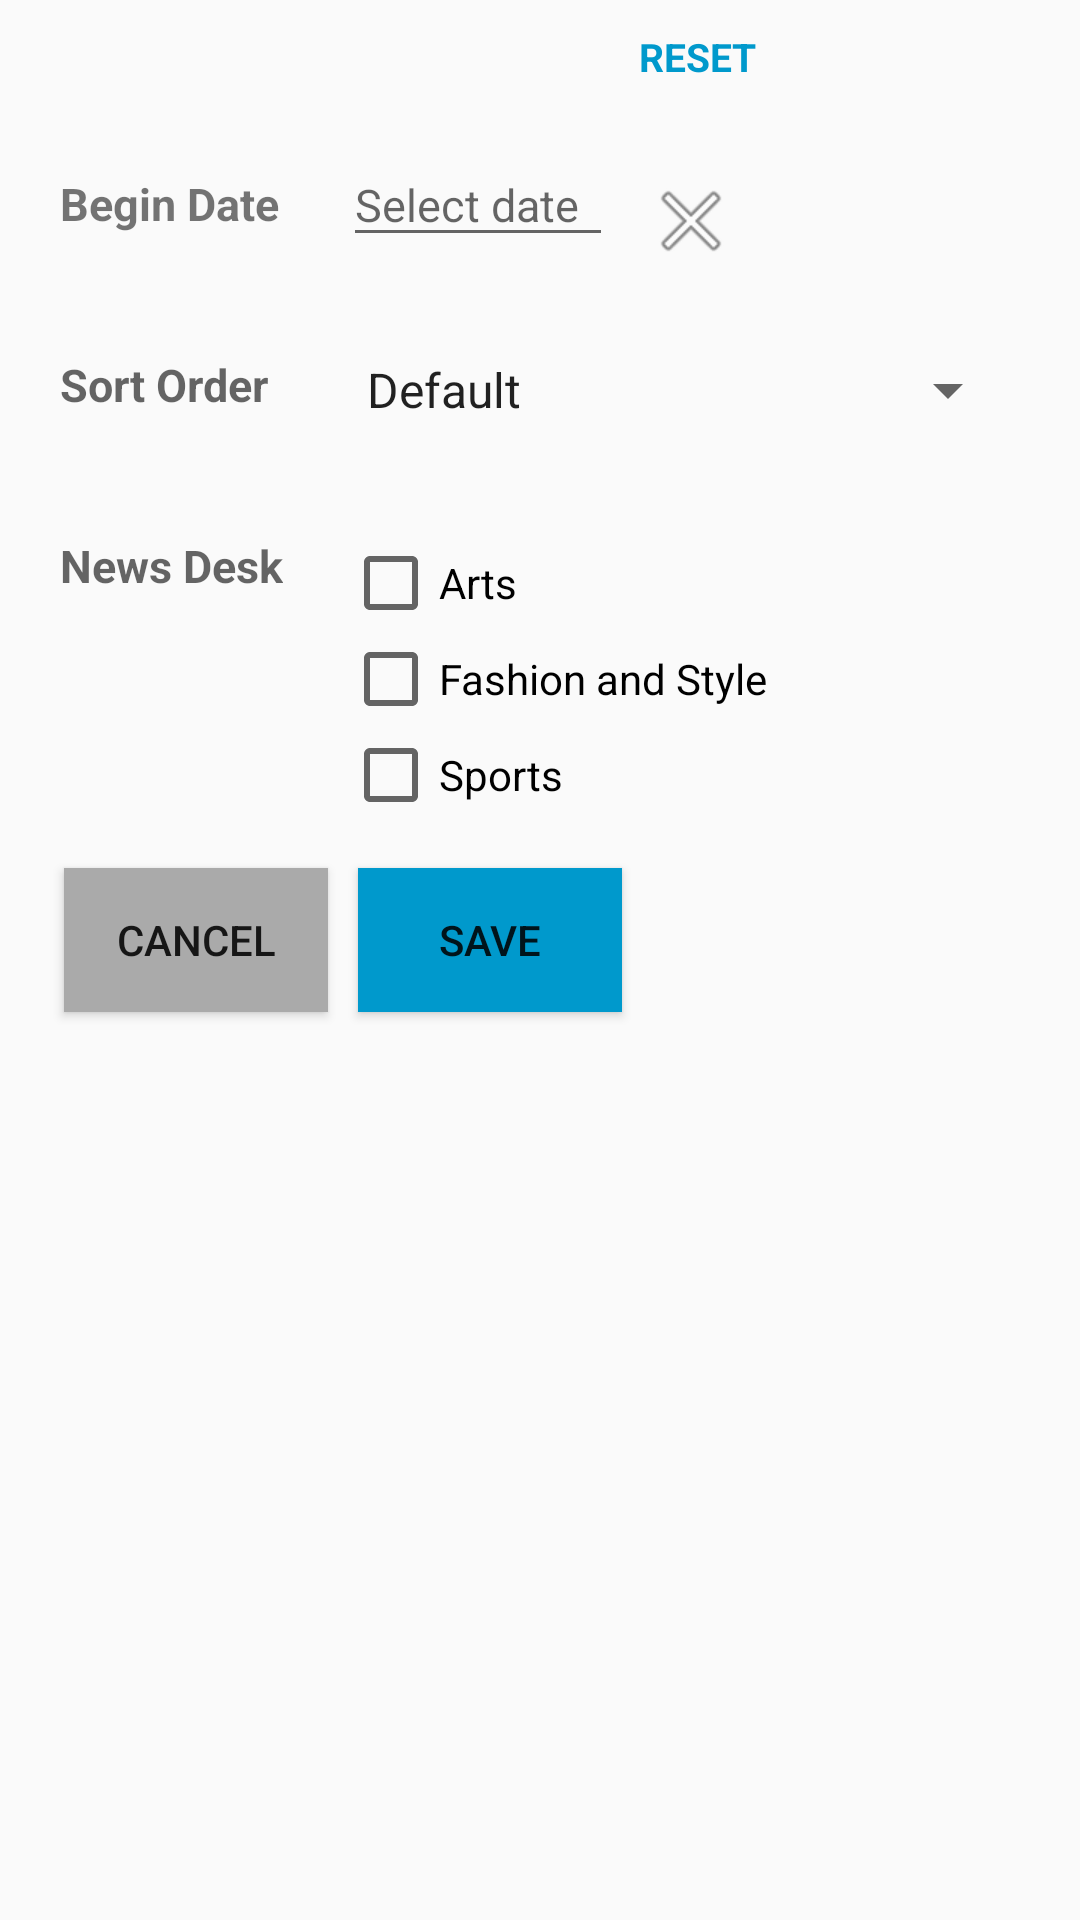

Point at icon controls on the screen. Image size 1080px×1920px, points as point (x, y).
close clear cancel: point (691, 221)
